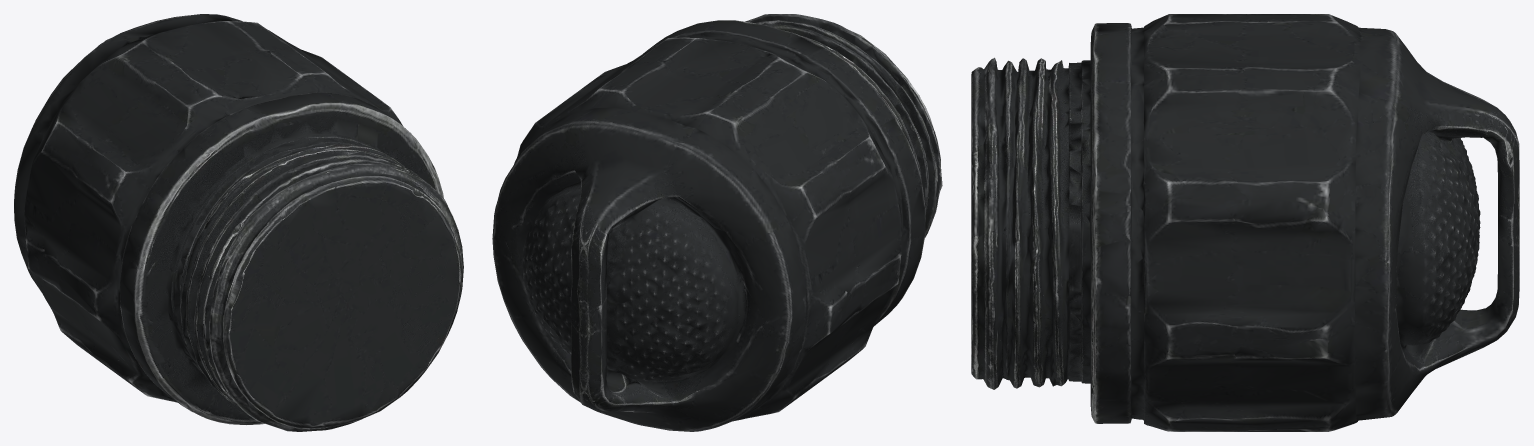
The model's file is tapa.glb.
The picture shows the model from 3 angles, left to right: view 1: azimuth 30°, elevation 25°; view 2: azimuth 150°, elevation 25°; view 3: azimuth 270°, elevation 25°; orthographic projection. The views are drawn at different scales.
Bounding box in the file's own units: 1.49 × 1.37 × 1.9.
1 material, 1 textured.
